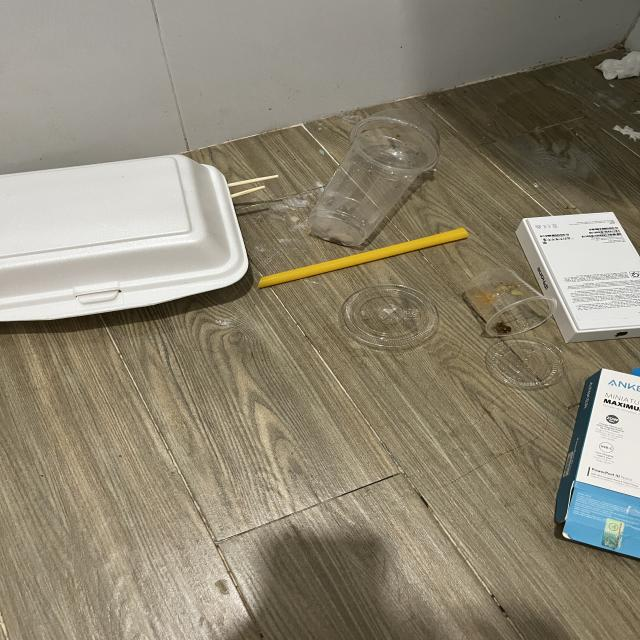cardboard box: (553, 366, 640, 564), (515, 211, 640, 344)
drinking straw: (258, 226, 468, 289)
foam box: (0, 153, 248, 323)
lid: (342, 284, 440, 348), (486, 337, 570, 387)
plastic glass: (307, 110, 439, 246), (464, 265, 556, 337)
